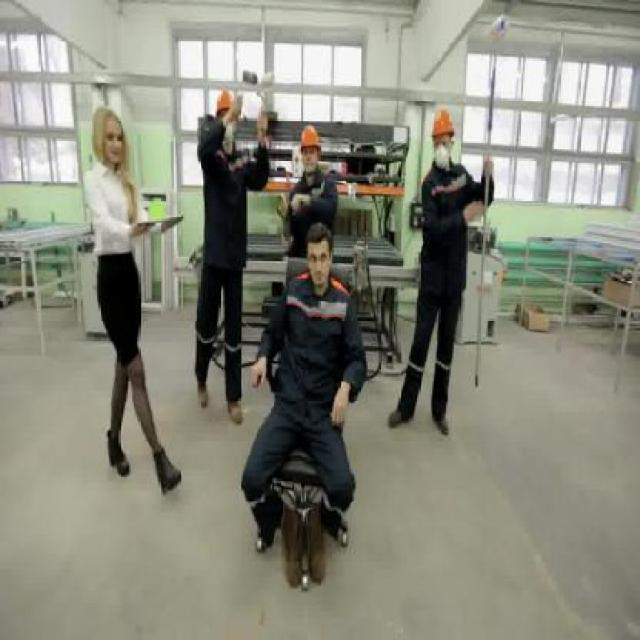Helmet: (432, 109, 457, 137), (300, 121, 322, 152), (218, 88, 236, 115)
Mask: (432, 143, 448, 174), (152, 196, 166, 222)
Vest: (240, 273, 369, 525), (394, 158, 498, 422), (191, 122, 267, 398), (275, 160, 348, 268)
